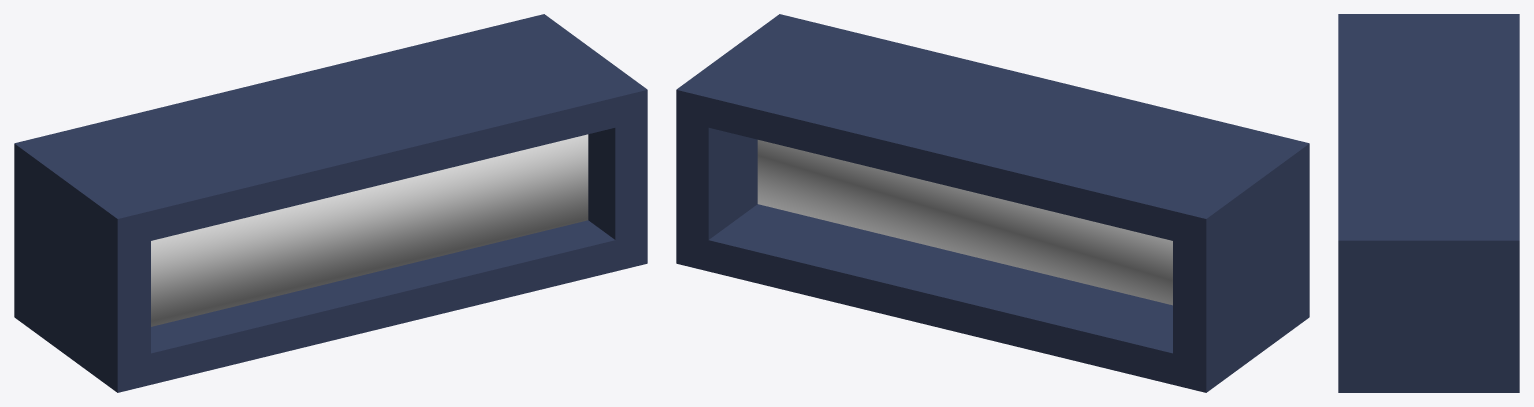
File: ventilasi1.fbx
3 views of the same model, side by side, from view 1: azimuth 30°, elevation 25°; view 2: azimuth 150°, elevation 25°; view 3: azimuth 270°, elevation 25° (orthographic). The views are drawn at different scales.
Visible parts, largest first — view 1: Cube.002; view 2: Cube.002; view 3: Cube.002.
Boxes of the visible parts, x1,y1,x2,y2 form: Cube.002: (14, 14, 647, 392); Cube.002: (676, 14, 1309, 392); Cube.002: (1338, 14, 1519, 392).
Size of the model in its own units: 152 by 47.64 by 51.38.
